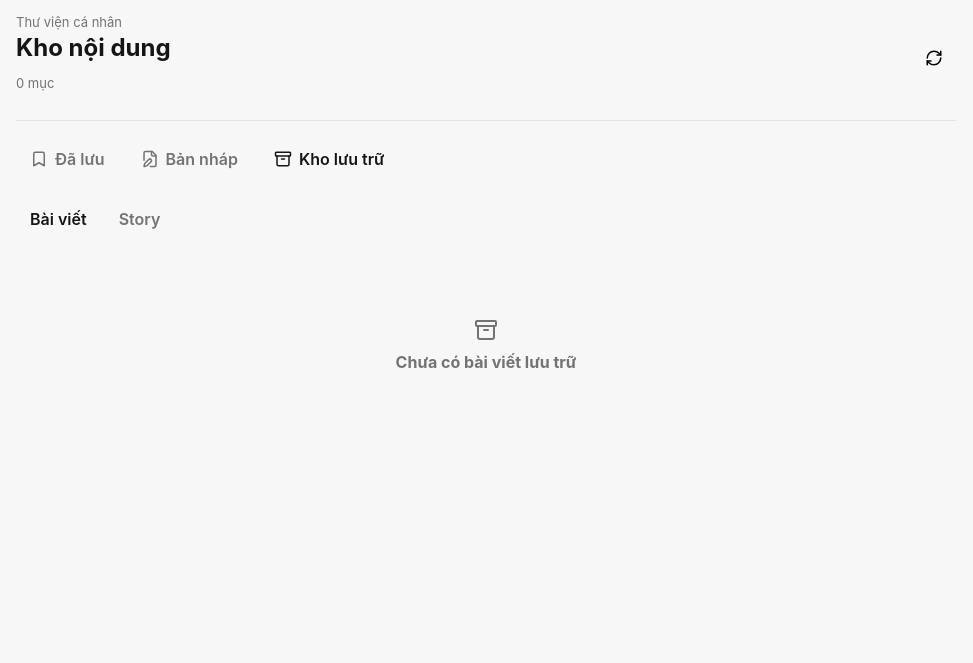
Test: loads the story archive only when selected and requests its next page
The image size is (973, 663).
Click the button "Story" at {"x": 139, "y": 219}, box x1=105 y1=197 x2=174 y2=241
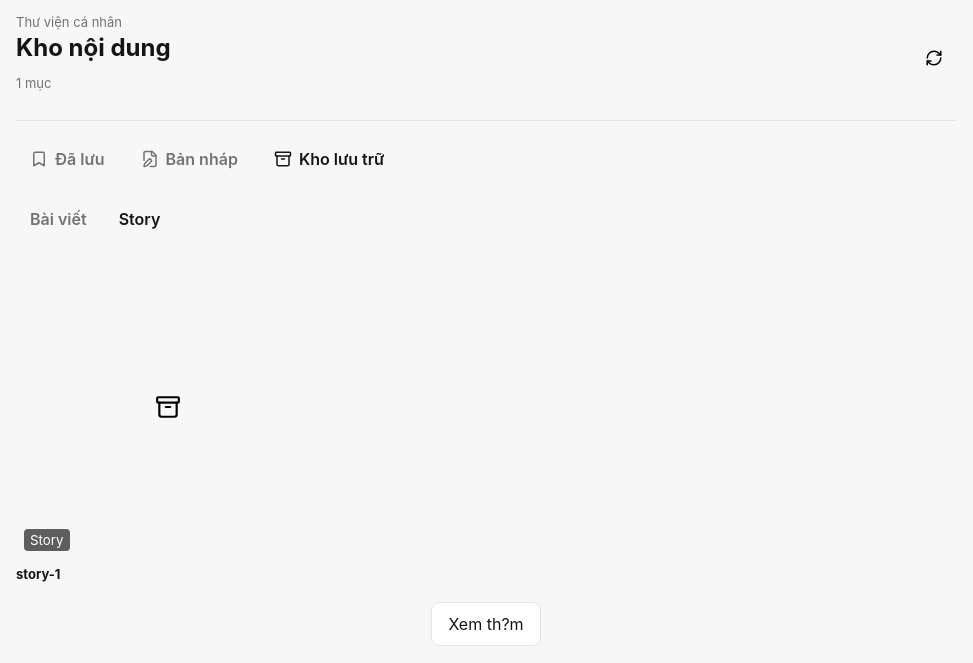
Click the button with aria-label "Load more" at {"x": 486, "y": 624}, box x1=431 y1=602 x2=541 y2=646
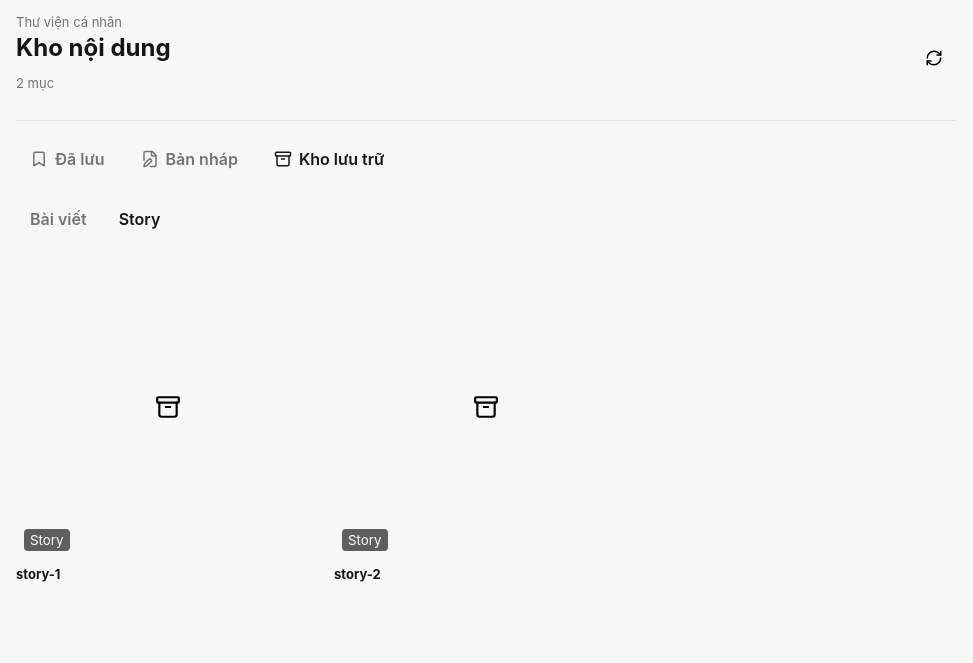
Expected: the text "story-1" is shown once, x1=16 y1=566 x2=60 y2=582
Expected: the text "story-2" is shown, x1=334 y1=566 x2=381 y2=582
